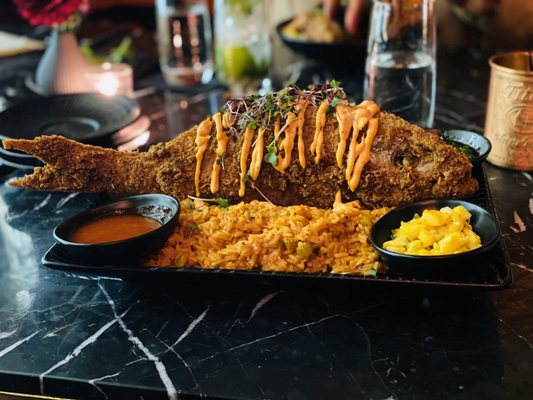pizza: (364, 0, 438, 128), (483, 51, 533, 172), (213, 0, 273, 100)
sushi: (369, 197, 507, 284), (52, 193, 181, 267)
